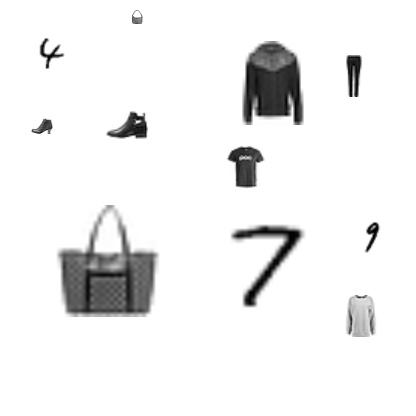4: (28, 31, 70, 73)
7: (212, 198, 324, 310)
9: (350, 212, 392, 254)
Ankle_boot: (106, 104, 148, 146), (31, 115, 53, 137)
Bag: (50, 205, 162, 317), (130, 10, 144, 24)
Coat: (231, 41, 315, 125)
Pullover: (340, 295, 382, 337)
T-shirt/top: (224, 146, 266, 188)
Trouser: (333, 55, 375, 97)
